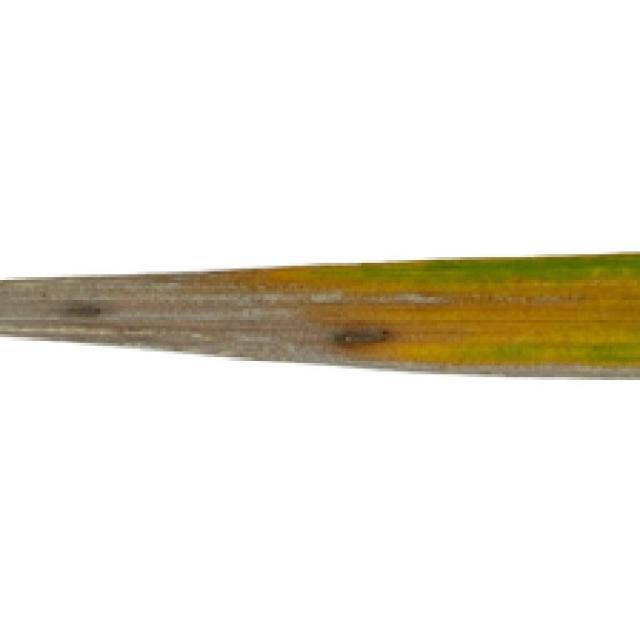Rice___Bacterial_Leaf_Blight: (1, 247, 637, 383)
